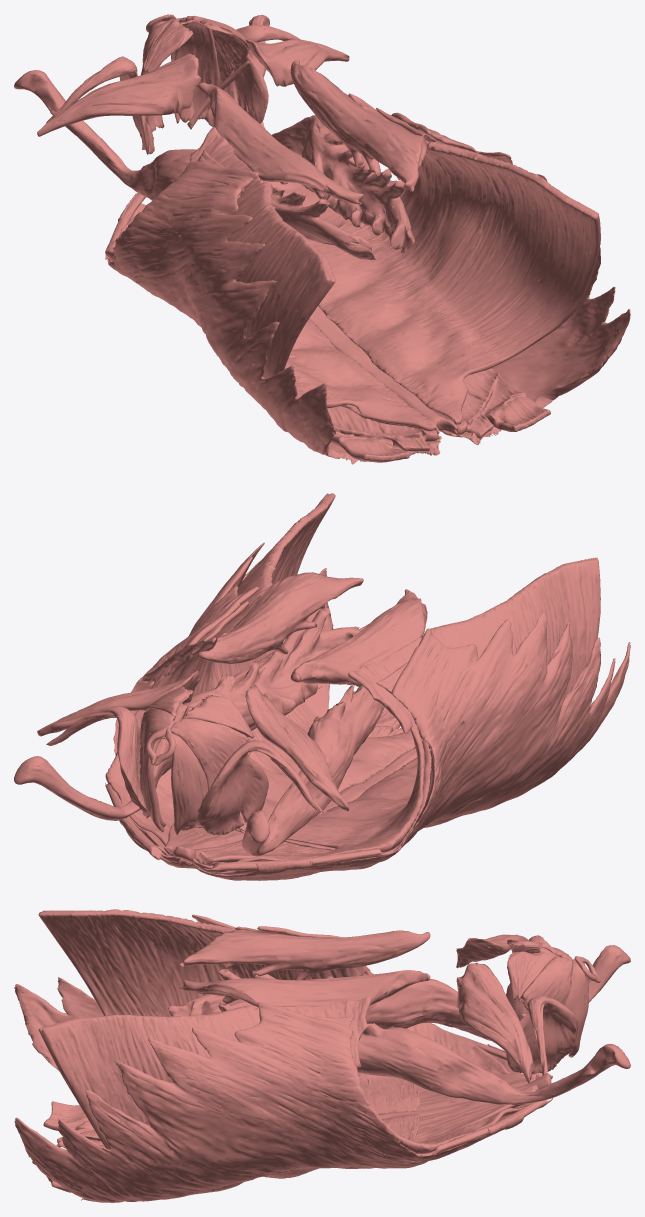
The model's file is abdomen__muscular.9096c317b5.glb.
3 views of the same model, one above another, from view 1: azimuth 30°, elevation 25°; view 2: azimuth 150°, elevation 25°; view 3: azimuth 270°, elevation 25° (orthographic). The views are drawn at different scales.
Parts seen in each view (by area): view 1: FMA22345, FMA13336, FMA22344, FMA13337, FMA22343, FMA22342, FMA22349, FMA22348, FMA22340, FMA13378, FMA13377, FMA22325 (+6 smaller); view 2: FMA13336, FMA22344, FMA22345, FMA22343, FMA22342, FMA22349, FMA22348, FMA22324, FMA13337, FMA22340, FMA22325, FMA45858 (+14 smaller); view 3: FMA13337, FMA22344, FMA22345, FMA22343, FMA22348, FMA22342, FMA22349, FMA22341, FMA13336, FMA22325, FMA13378, FMA13377 (+7 smaller).
Boxes of the visible parts, <box> form: FMA22345: <box>263,93,600,424</box>; FMA13336: <box>107,161,441,464</box>; FMA22344: <box>105,126,436,431</box>; FMA13337: <box>391,112,630,444</box>; FMA22343: <box>248,14,414,252</box>; FMA22342: <box>14,70,375,260</box>; FMA22349: <box>290,59,427,191</box>; FMA22348: <box>197,82,363,204</box>; FMA22340: <box>37,53,200,136</box>; FMA13378: <box>450,368,550,438</box>; FMA13377: <box>327,406,438,462</box>; FMA22325: <box>204,25,299,126</box>; FMA13336: <box>192,610,630,880</box>; FMA22344: <box>192,557,600,869</box>; FMA22345: <box>105,493,415,862</box>; FMA22343: <box>14,607,369,820</box>; FMA22342: <box>242,685,384,856</box>; FMA22349: <box>197,572,363,663</box>; FMA22348: <box>290,589,427,686</box>; FMA22324: <box>196,740,323,835</box>; FMA13337: <box>113,542,333,868</box>; FMA22340: <box>245,685,349,811</box>; FMA22325: <box>46,706,150,818</box>; FMA45858: <box>170,718,249,790</box>; FMA13337: <box>14,1002,524,1202</box>; FMA22344: <box>38,909,550,1140</box>; FMA22345: <box>38,997,524,1153</box>; FMA22343: <box>218,1003,630,1104</box>; FMA22348: <box>179,929,430,980</box>; FMA22342: <box>168,945,630,1040</box>; FMA22349: <box>179,970,430,1007</box>; FMA22341: <box>456,962,532,1082</box>; FMA13336: <box>14,914,521,1148</box>; FMA22325: <box>506,996,578,1075</box>; FMA13378: <box>46,1085,538,1192</box>; FMA13377: <box>43,1073,537,1143</box>.
Bounding box in the file's own units: 278 × 196 × 491.
